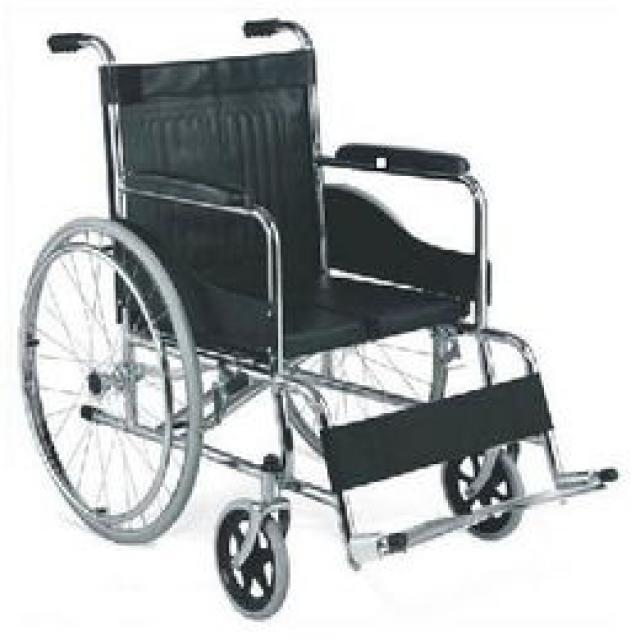wheelchair: (12, 22, 638, 610)
